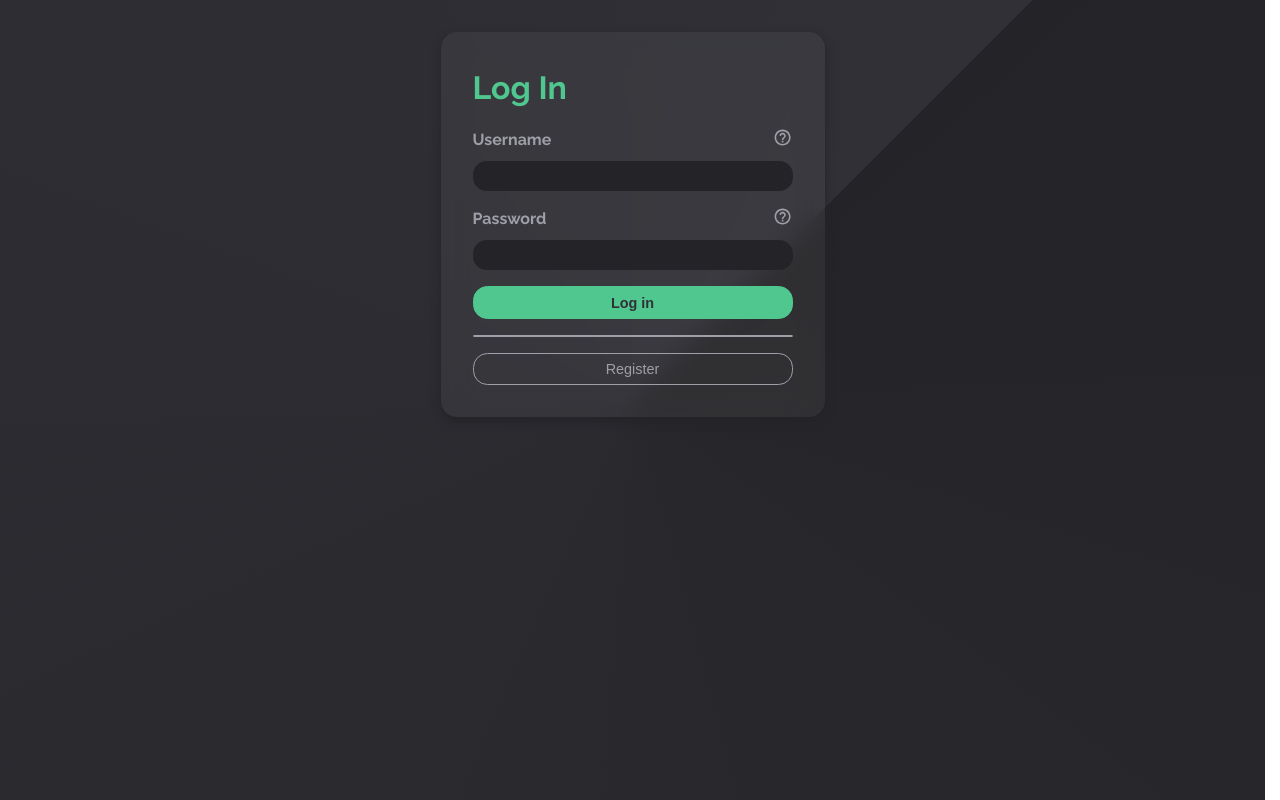
Test: login page › should fail to login for wrong credentials
This screenshot has width=1280, height=800.
In the field with test id "USERNAME_INPUT": [633, 176] box [473,161,793,191], type "anaanic"
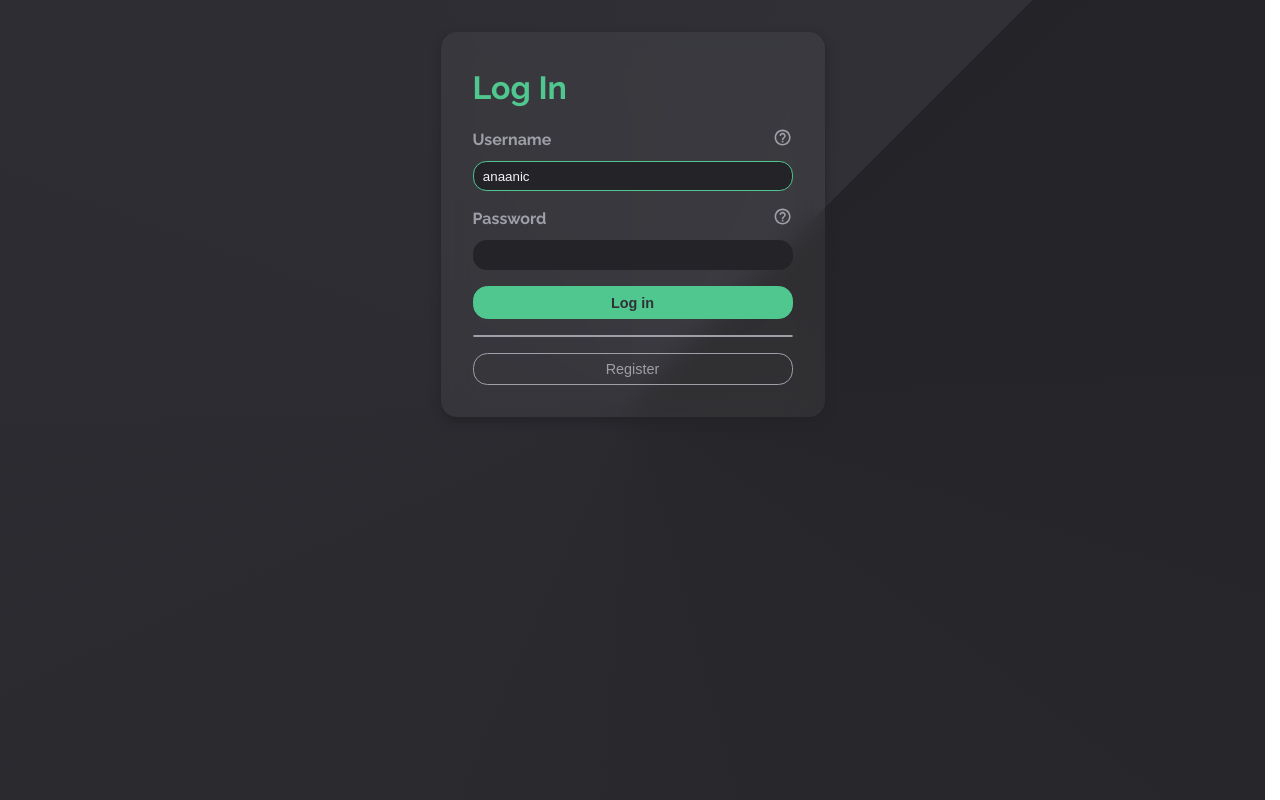
In the password field with test id "PASSWORD_INPUT": [633, 255] box [473,240,793,270], type "sdrfgeinf34"
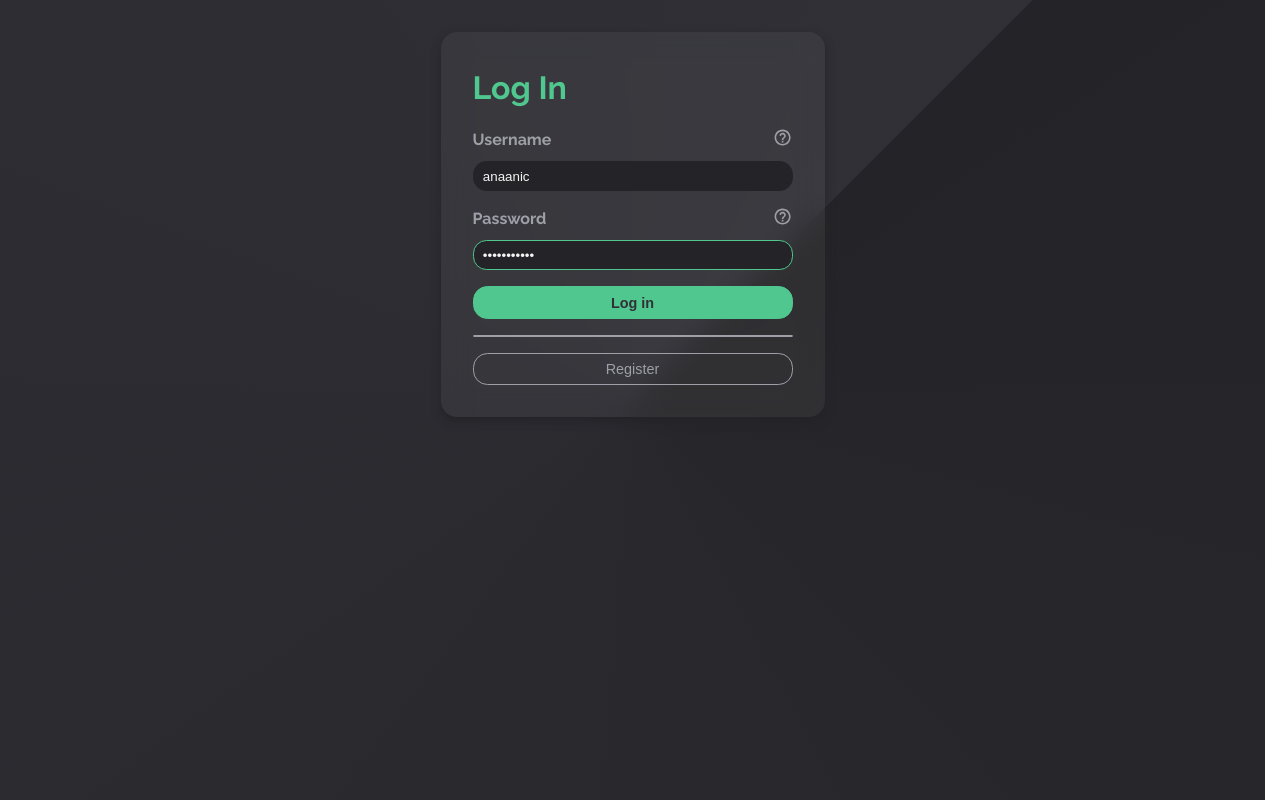
Click the button with test id "LOGIN_BUTTON": [633, 302] box [473,286,793,318]
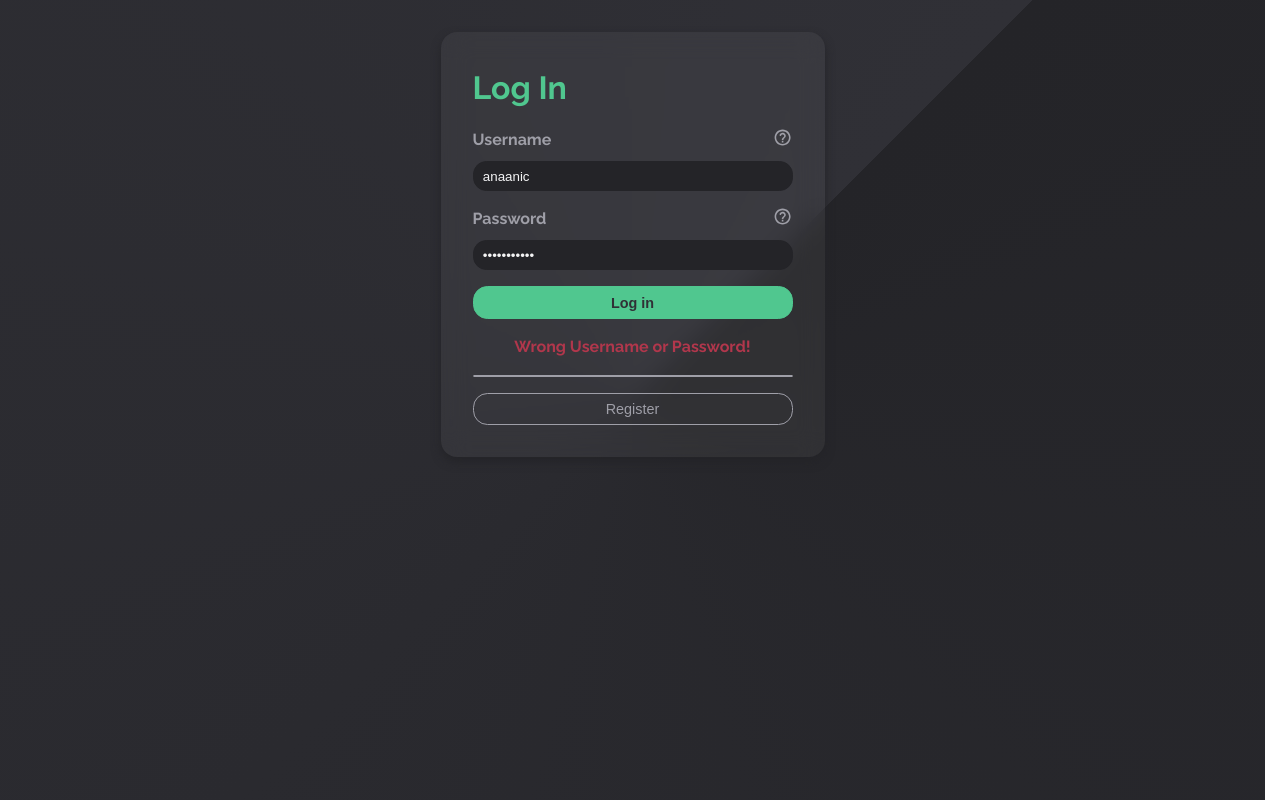
Now the text "Wrong Username or Password!" is shown
